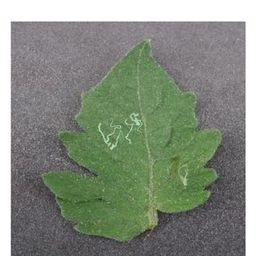liriomyza: (96, 110, 144, 152), (176, 163, 191, 186)
